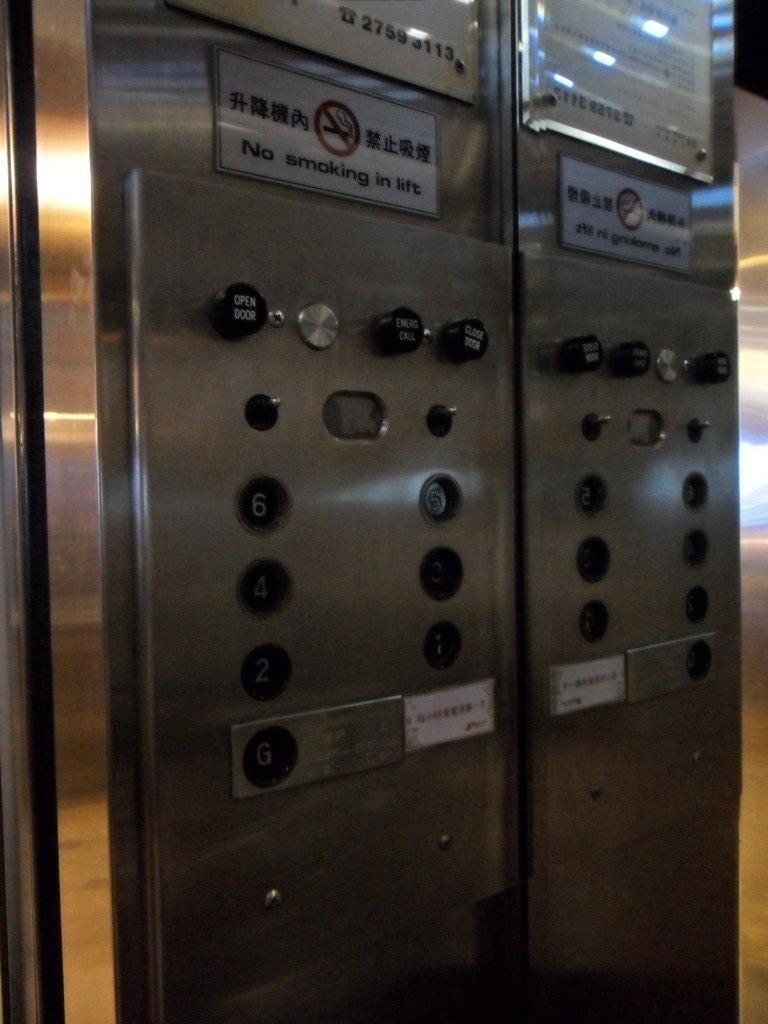1: (423, 619, 462, 668)
2: (240, 644, 294, 703)
3: (419, 546, 464, 601)
5: (235, 556, 295, 617), (420, 471, 462, 525)
6: (234, 471, 295, 540)
G: (239, 725, 301, 789)
empty: (294, 300, 344, 352)
switch: (244, 389, 283, 432), (425, 400, 460, 437), (579, 412, 611, 442), (686, 417, 711, 444)
text_CALL: (374, 307, 424, 354)
text_blur: (560, 334, 603, 374), (610, 341, 650, 376), (696, 348, 730, 383)
text_close: (441, 318, 489, 361)
text_open: (209, 283, 268, 339)
unknown: (576, 536, 611, 583), (576, 473, 607, 517), (579, 600, 609, 641), (685, 640, 712, 682), (682, 471, 710, 511), (681, 530, 710, 567), (684, 585, 710, 623)
